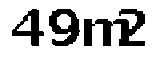2: (120, 7, 149, 51)
4: (6, 7, 44, 51)
9: (45, 7, 80, 49)
m: (80, 16, 128, 50)
